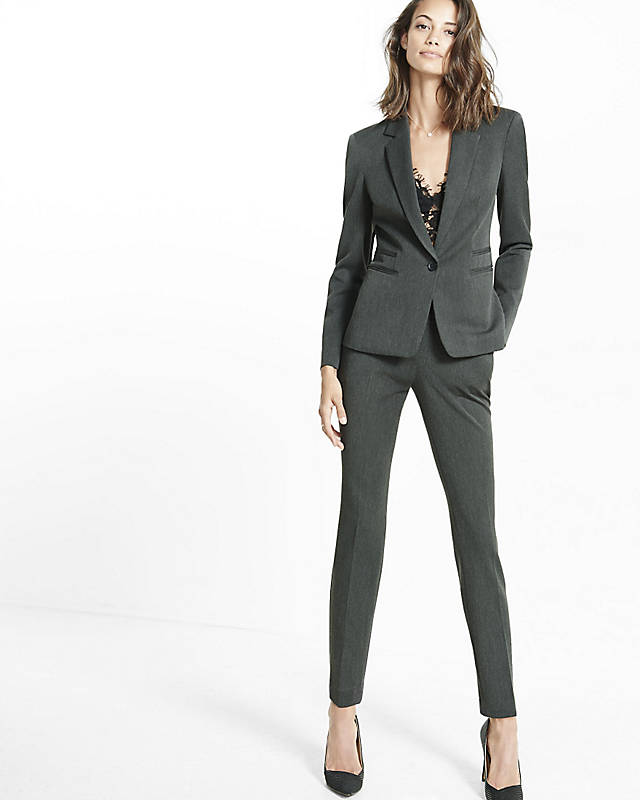feet: (296, 655, 534, 800)
